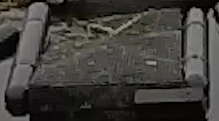bag: (7, 3, 209, 113)
